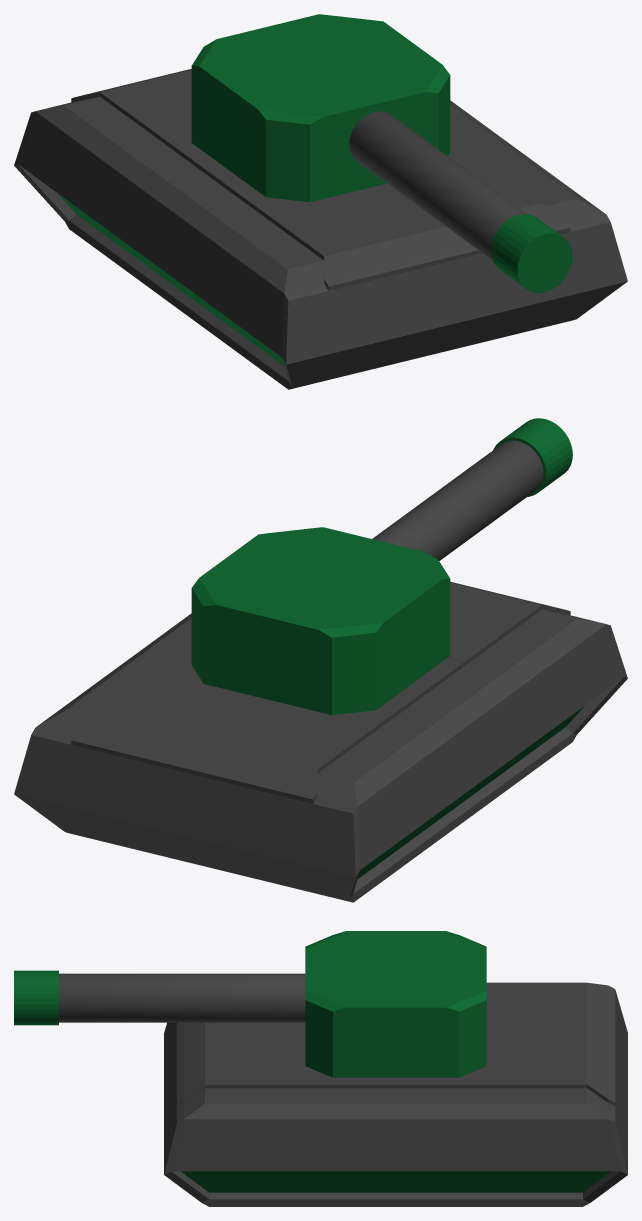
The model's file is base_tank_Green.fbx.
The picture shows the model from 3 angles, top to bottom: view 1: azimuth 30°, elevation 25°; view 2: azimuth 150°, elevation 25°; view 3: azimuth 270°, elevation 25°; orthographic projection. The views are drawn at different scales.
Visible parts, largest first — view 1: Body, Weapon; view 2: Body, Weapon; view 3: Body, Weapon.
Boxes of the visible parts, <box> form: Body: <box>14,69,627,389</box>; Weapon: <box>191,14,572,292</box>; Body: <box>14,581,627,902</box>; Weapon: <box>191,418,572,715</box>; Body: <box>164,982,627,1206</box>; Weapon: <box>14,931,486,1077</box>.
Bounding box in the file's own units: 1.08 × 0.6294 × 1.96.
Materials: 2 (2 with a texture image).
